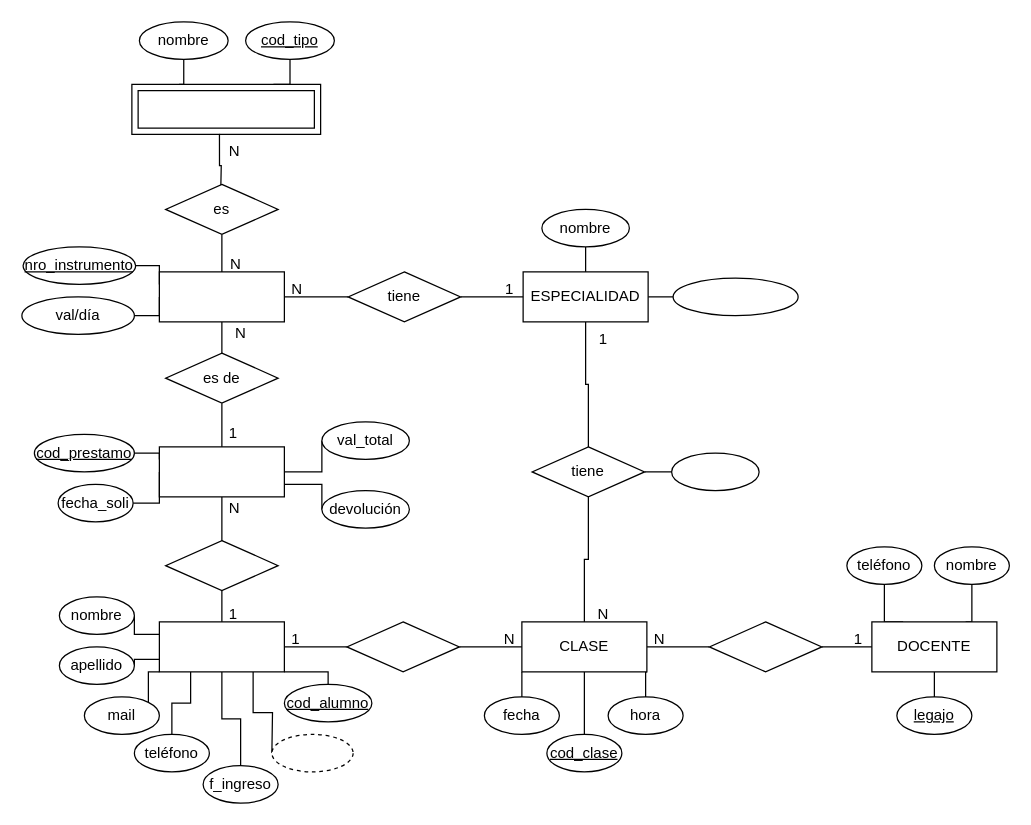
Some shapes in this 1031 by 825 pixel diagram are drawn without their labels. Each missing label, with the centre of its shape:
ALUMNO: (221,646)
Antiguedad: (312,752)
cod_especialidad: (735,296)
dicatada por: (765,646)
INSTRUMENTO: (221,296)
participa: (402,646)
pide: (221,565)
PRESTAMO: (221,471)
TIPO_INSTRUMENTO: (226,108)
valor_clase: (714,471)
